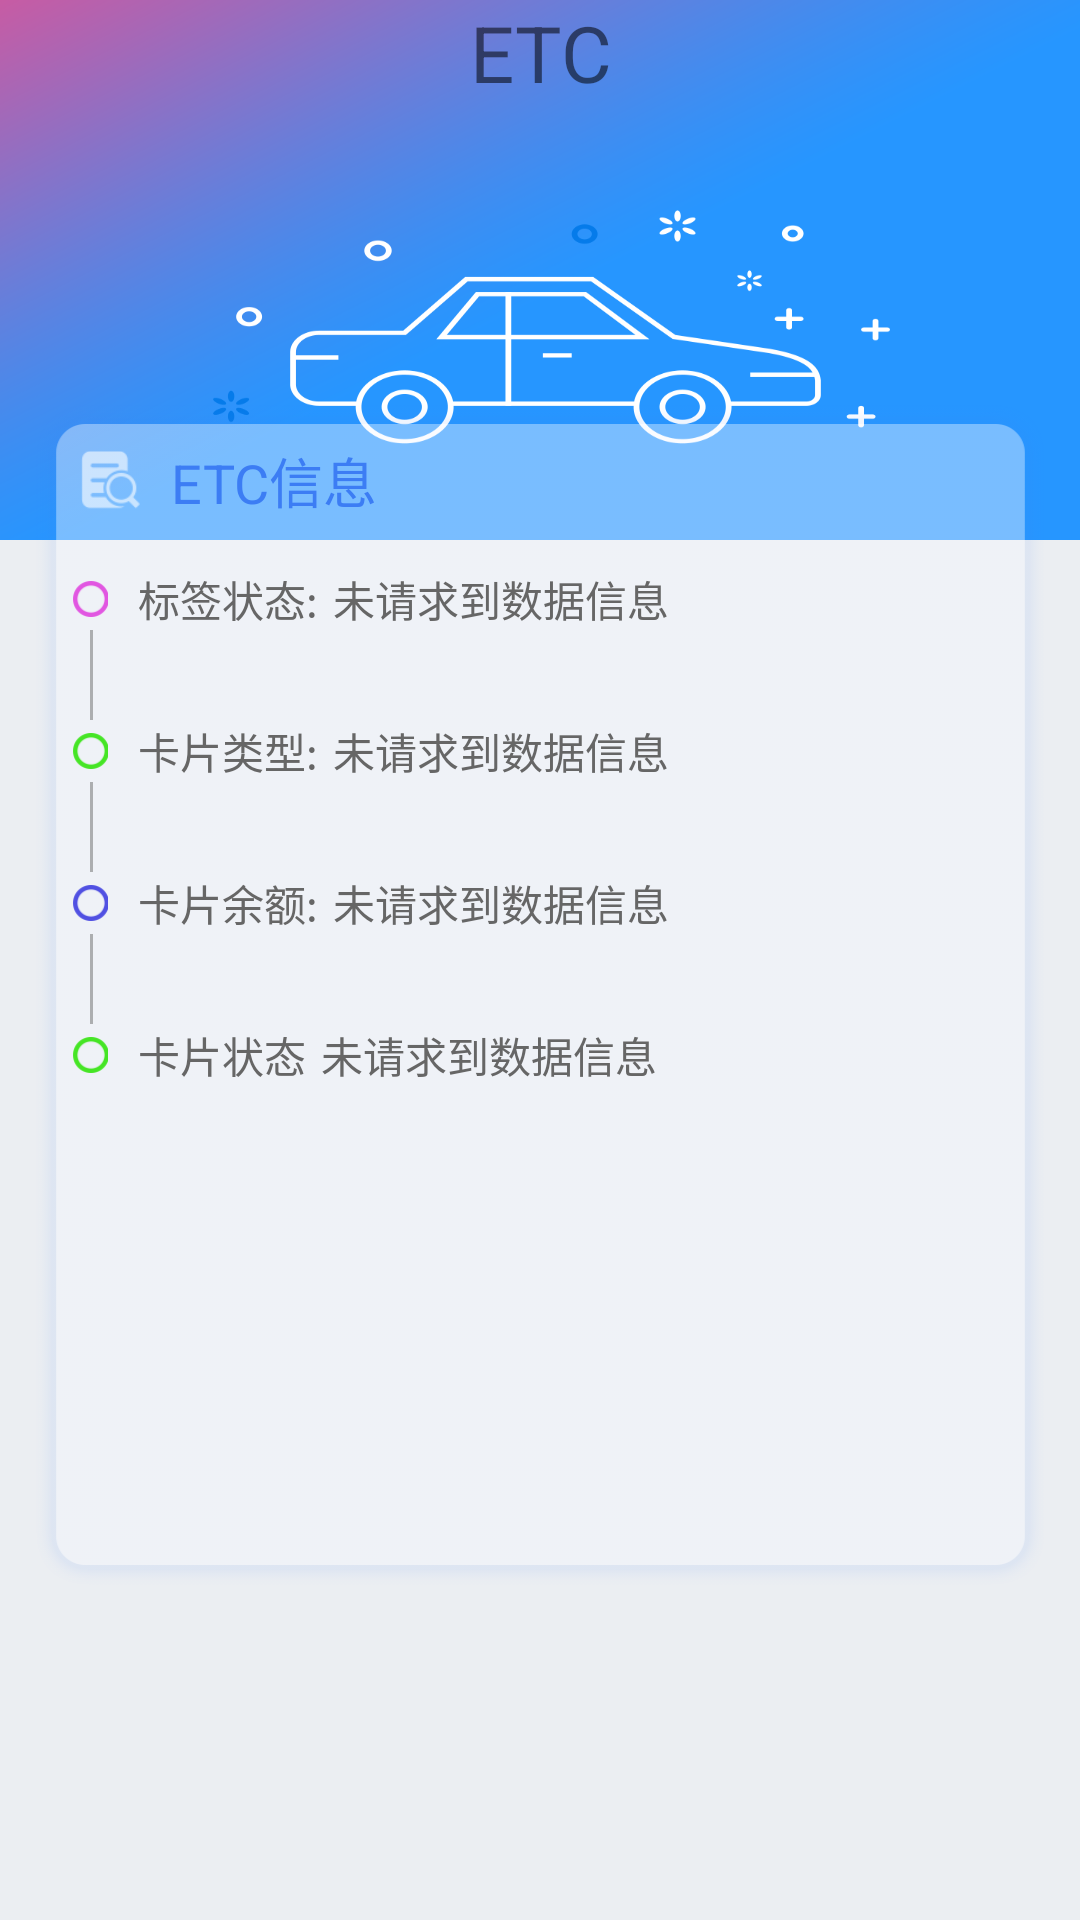

Locate icon controls on the screen. Image size 1080w x 1920h, boxes as region(x1, y1, x2, y2).
ring: region(73, 581, 108, 617), region(73, 733, 108, 769), region(73, 885, 108, 921), region(73, 1037, 108, 1073)
